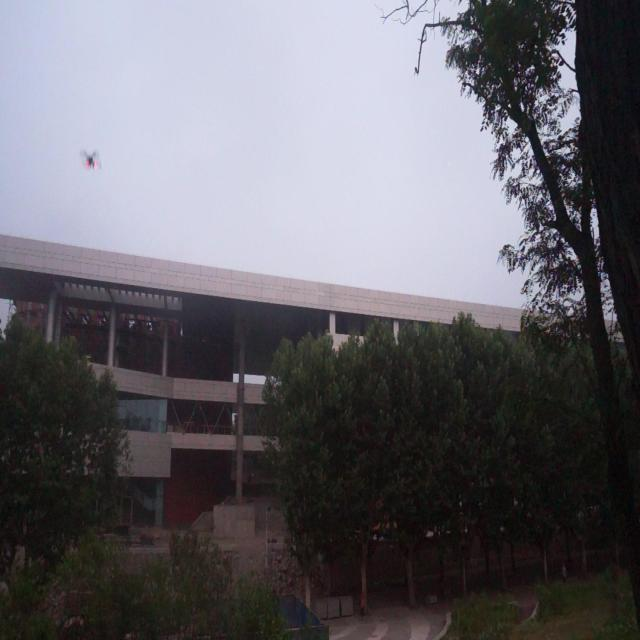drone: (80, 144, 104, 176)
